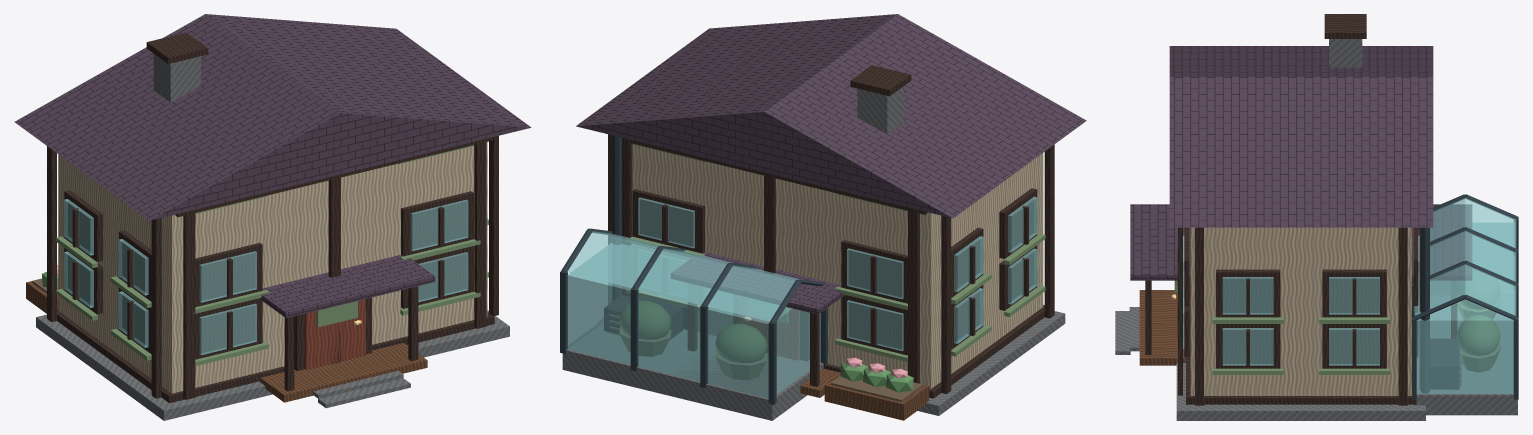
File: house_tudor_lv4_greenhouse.glb
3 renders of one model, left to right at view 1: azimuth 30°, elevation 25°; view 2: azimuth 150°, elevation 25°; view 3: azimuth 270°, elevation 25°, orthographic. The views are drawn at different scales.
Parts seen in each view (by area): view 1: gable_roof, walls, foundation, front_porch_canopy, front_deck, front_window_frame.003, floor_trim, front_window_frame.002, front_door, front_window_frame, front_timber, front_timber.002 (+30 smaller); view 2: gable_roof, walls, greenhouse_glazing, greenhouse_roof, greenhouse_plinth, back_porch_canopy, back_window_frame.003, back_window_frame.002, foundation, back_window_frame, back_garden_bed, back_timber (+37 smaller); view 3: gable_roof, walls, greenhouse_glazing, greenhouse_roof, foundation, front_porch_canopy, right_window_frame.003, right_window_frame.002, back_porch_canopy, right_window_frame.001, right_window_frame, front_deck (+26 smaller).
Part boxes in pixels (x1,y1,x2,y2): gable_roof: (14, 14, 531, 220); walls: (58, 142, 487, 393); foundation: (36, 310, 509, 420); front_porch_canopy: (259, 254, 435, 318); front_deck: (259, 343, 427, 402); front_window_frame.003: (401, 191, 473, 256); floor_trim: (57, 308, 494, 403); front_window_frame.002: (195, 243, 262, 306); front_door: (304, 299, 365, 369); front_window_frame: (195, 298, 262, 359); front_timber: (183, 210, 195, 399); front_timber.002: (474, 138, 486, 328); gable_roof: (576, 14, 1086, 218); walls: (632, 144, 1043, 388); greenhouse_glazing: (567, 243, 820, 397); greenhouse_roof: (567, 231, 800, 321); greenhouse_plinth: (562, 349, 823, 420); back_porch_canopy: (671, 252, 844, 314); back_window_frame.003: (632, 189, 704, 253); back_window_frame.002: (841, 240, 907, 303); foundation: (917, 311, 1065, 415); back_window_frame: (841, 295, 907, 355); back_garden_bed: (824, 374, 929, 420); back_timber: (908, 207, 919, 383); gable_roof: (1169, 46, 1433, 227); walls: (1190, 227, 1411, 395); greenhouse_glazing: (1416, 223, 1514, 393); greenhouse_roof: (1414, 198, 1516, 315); foundation: (1176, 363, 1425, 420); front_porch_canopy: (1130, 204, 1190, 280); right_window_frame.003: (1322, 269, 1386, 317); right_window_frame.002: (1216, 269, 1280, 317); back_porch_canopy: (1412, 204, 1471, 280); right_window_frame.001: (1322, 324, 1386, 368); right_window_frame: (1216, 324, 1280, 368); front_deck: (1139, 290, 1185, 365).
Size of the model in its own units: 6.6 by 4.75 by 6.19.
Materials: 13 (7 with a texture image).
